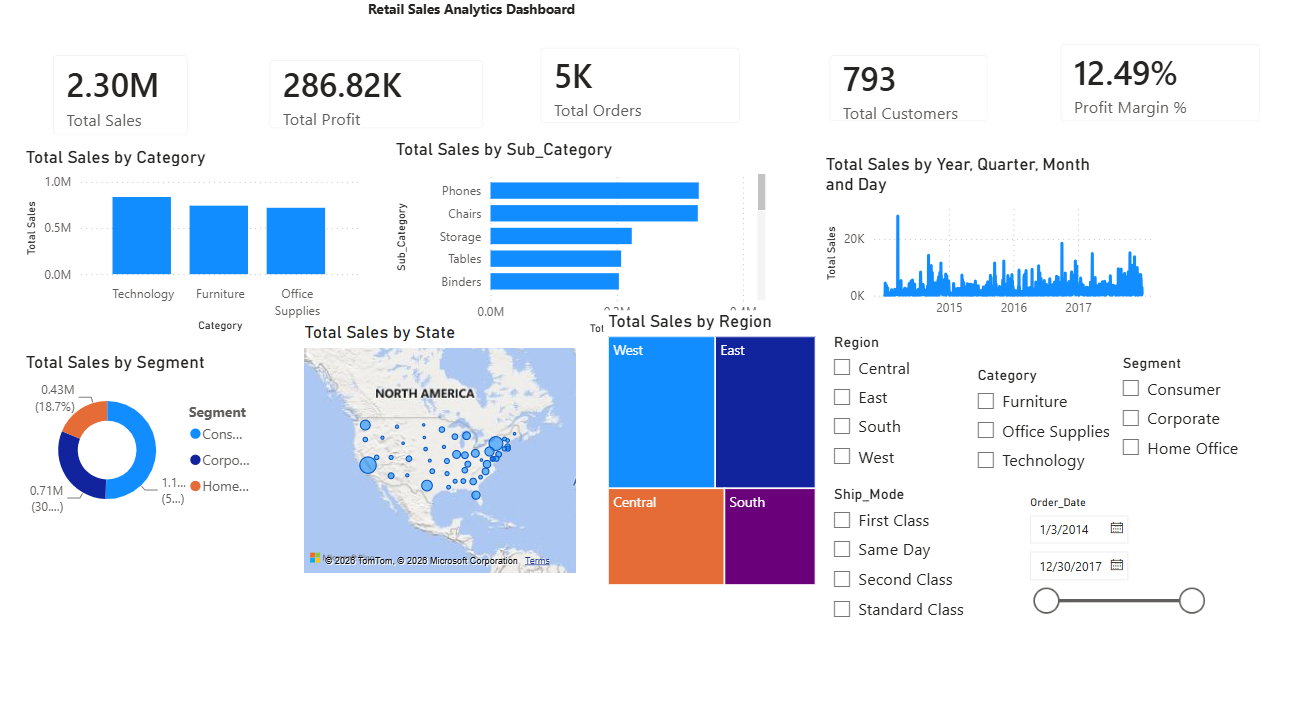

This screenshot's page, from the dashboard's own definition file:
{"tool":"powerbi","page":{"name":"Page 1","canvas":[1280,720],"ordinal":0},"visuals":[{"type":"cardVisual","fields":{"Data":["Superstore.Total Sales"]},"box":[37.9,42.8,166.3,112.5],"z":0},{"type":"cardVisual","fields":{"Data":["Superstore.Total Profit"]},"box":[249.5,47.7,243.3,101.5],"z":1},{"type":"cardVisual","fields":{"Data":["Superstore.Total Orders"]},"box":[514.8,35.5,229.9,108.8],"z":2},{"type":"cardVisual","fields":{"Data":["Superstore.Total Customers"]},"box":[797.3,42.8,189.5,99],"z":3},{"type":"cardVisual","fields":{"Data":["Superstore.Profit Margin %"]},"box":[1023.5,31.8,229.9,110.1],"z":4},{"type":"clusteredColumnChart","fields":{"Y":["Superstore.Total Sales"],"Category":["Superstore.Category"]},"box":[23.2,149.2,336.3,185.9],"z":5},{"type":"clusteredBarChart","fields":{"Y":["Superstore.Total Sales"],"Category":["Superstore.Sub_Category"]},"box":[385.2,141.8,371.7,196.9],"z":6},{"type":"lineChart","fields":{"Y":["Superstore.Total Sales"],"Category":["Superstore.Order_Date.Variation.Date Hierarchy.Year","Superstore.Order_Date.Variation.Date Hierarchy.Quarter","Superstore.Order_Date.Variation.Date Hierarchy.Month","Superstore.Order_Date.Variation.Date Hierarchy.Day"]},"box":[805.8,156.5,332.6,168.8],"z":7},{"type":"map","fields":{"Category":["Superstore.State"],"Size":["Superstore.Total Sales"]},"box":[295.9,320.4,275.1,250.7],"z":8},{"type":"donutChart","fields":{"Category":["Superstore.Segment"],"Y":["Superstore.Total Sales"]},"box":[23.2,349.7,238.5,172.4],"z":9},{"type":"treemap","fields":{"Values":["Superstore.Total Sales"],"Group":["Superstore.Region"]},"box":[593.1,309.4,212.8,273.9],"z":10},{"type":"textbox","box":[100.3,0,723.9,35.5],"z":11},{"type":"slicer","fields":{"Values":["Superstore.Region"]},"box":[805.8,326.5,192,149.2],"z":12},{"type":"slicer","fields":{"Values":["Superstore.Category"]},"box":[946.5,359.5,192,126],"z":13},{"type":"slicer","fields":{"Values":["Superstore.Segment"]},"box":[1088.3,347.3,192,150.4],"z":14},{"type":"slicer","fields":{"Values":["Superstore.Ship_Mode"]},"box":[805.8,475.7,192,150.4],"z":15},{"type":"slicer","fields":{"Values":["Superstore.Order_Date"]},"box":[997.8,485.5,192,149.2],"z":16}]}

Visuals, with their boxes in screenshot pixels (x1, y1, x2, y2), scaled from the page's 1280x720 canvas onto the 1302x723 screenshot:
cardVisual - Superstore.Total Sales: BBox(39, 43, 208, 156)
cardVisual - Superstore.Total Profit: BBox(254, 48, 501, 150)
cardVisual - Superstore.Total Orders: BBox(524, 36, 757, 145)
cardVisual - Superstore.Total Customers: BBox(811, 43, 1004, 142)
cardVisual - Superstore.Profit Margin %: BBox(1041, 32, 1275, 142)
clusteredColumnChart - Superstore.Total Sales x Superstore.Category: BBox(24, 150, 366, 336)
clusteredBarChart - Superstore.Total Sales x Superstore.Sub_Category: BBox(392, 142, 770, 340)
lineChart - Superstore.Total Sales x Superstore.Order_Date.Variation.Date Hierarchy.Year: BBox(820, 157, 1158, 327)
map - Superstore.State x Superstore.Total Sales: BBox(301, 322, 581, 573)
donutChart - Superstore.Segment x Superstore.Total Sales: BBox(24, 351, 266, 524)
treemap - Superstore.Total Sales x Superstore.Region: BBox(603, 311, 820, 586)
textbox: BBox(102, 0, 838, 36)
slicer - Superstore.Region: BBox(820, 328, 1015, 478)
slicer - Superstore.Category: BBox(963, 361, 1158, 488)
slicer - Superstore.Segment: BBox(1107, 349, 1301, 500)
slicer - Superstore.Ship_Mode: BBox(820, 478, 1015, 629)
slicer - Superstore.Order_Date: BBox(1015, 488, 1210, 637)
